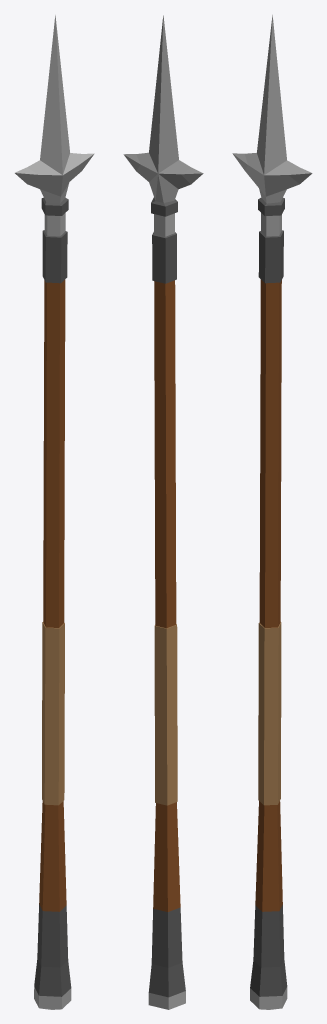
File: Low Poly Weapon Pack - by Kickin It Studios.fbx_Flared_Spear.glb
3 views of the same model, side by side, from view 1: azimuth 30°, elevation 25°; view 2: azimuth 150°, elevation 25°; view 3: azimuth 330°, elevation 25° (orthographic).
Visible parts, largest first — view 1: Flared Spear; view 2: Flared Spear; view 3: Flared Spear.
Boxes of the visible parts, x1,y1,x2,y2 form: Flared Spear: (15,15,94,1009); Flared Spear: (123,15,203,1009); Flared Spear: (232,15,312,1009).
Bounding box in the file's own units: 0.2078 × 2.46 × 0.0796.
